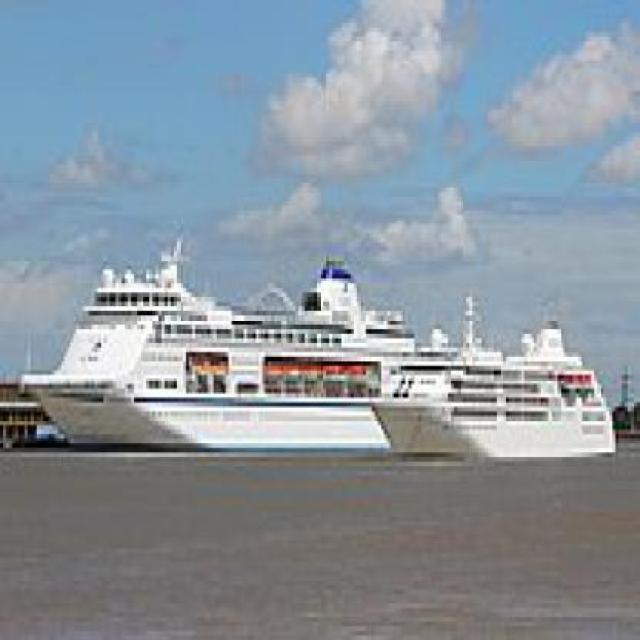cruise: (19, 243, 431, 468), (373, 284, 630, 476)
